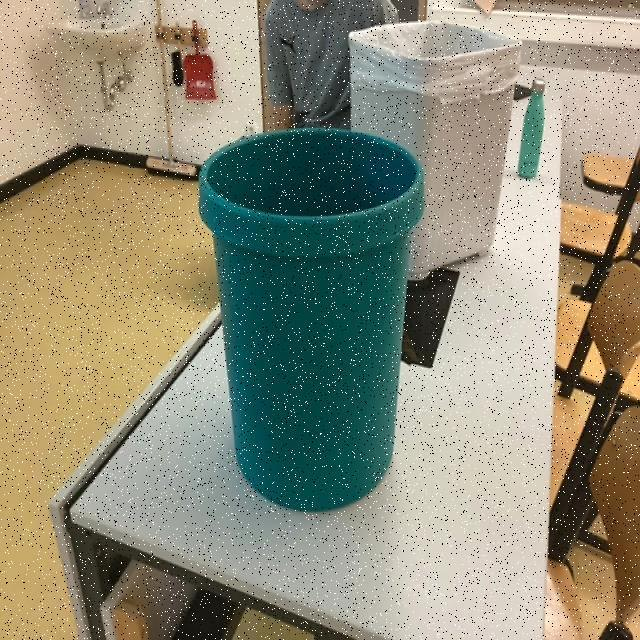garbage container: (189, 111, 435, 523), (338, 14, 530, 287)
